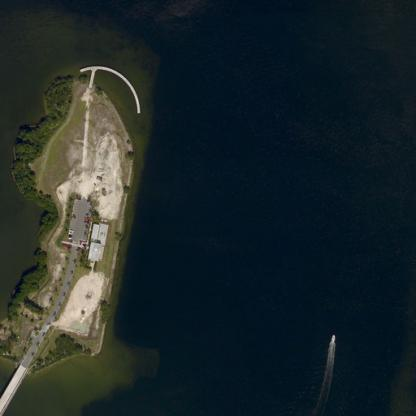ship: (324, 326, 340, 348)
